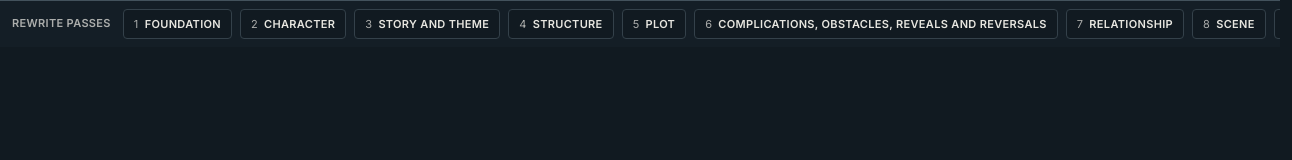
active pass detail band › activating a pass shows focus, goals, notes, status, and Open pass
Click the button "2 CHARACTER" at (293, 24), box [240,9,346,39]
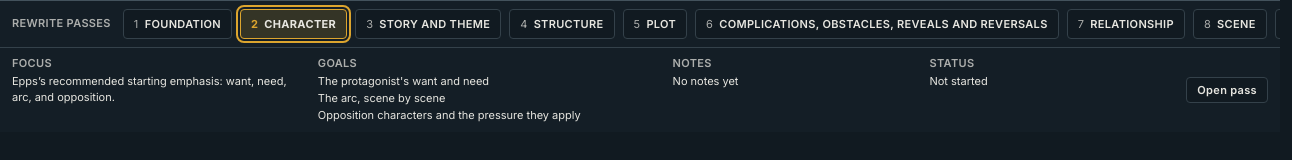
Now the element named "Active pass detail" is shown, box [0,47,1280,132]
Now the text "Focus" is shown, box [12,56,52,70]
Now the text "Goals" is shown, box [318,56,357,70]
